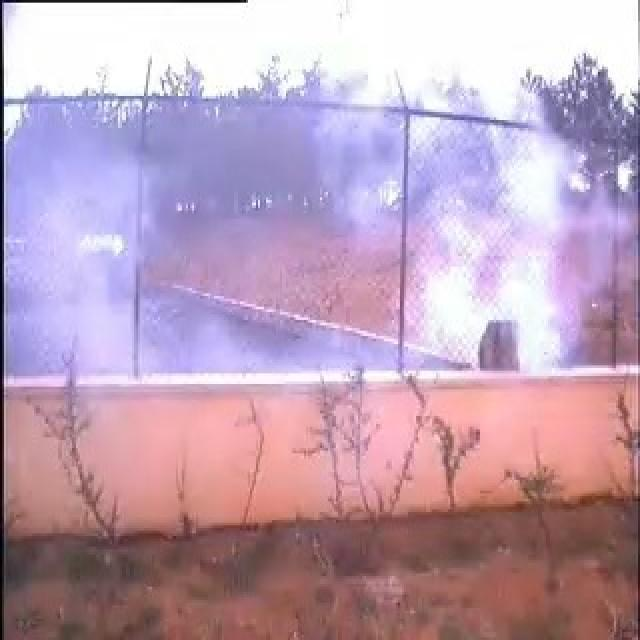Smoke: (50, 121, 569, 372)
